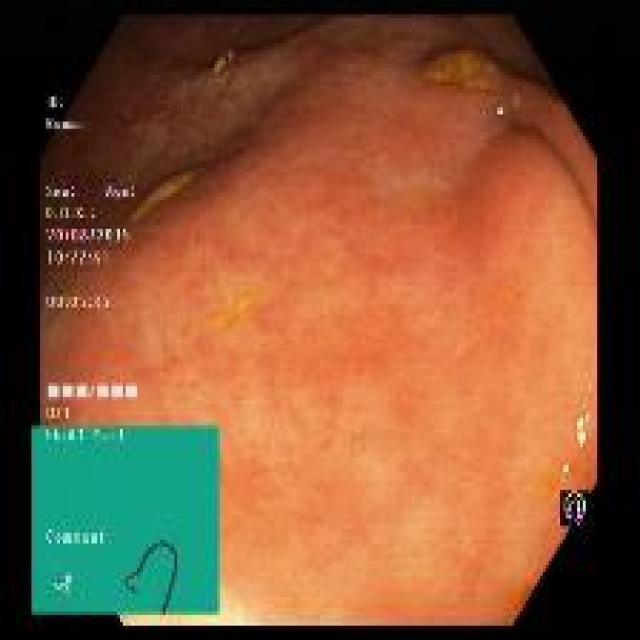ulcerative-colitis: (40, 19, 598, 624)
